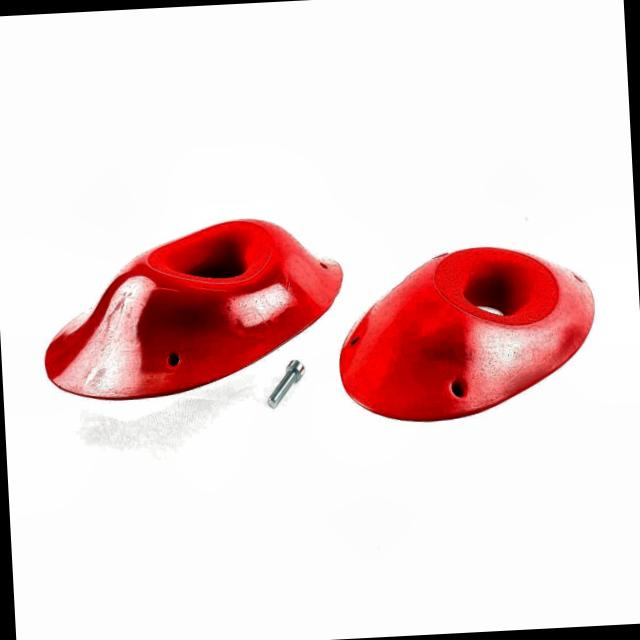Hold: (36, 210, 348, 405), (330, 235, 602, 426)
